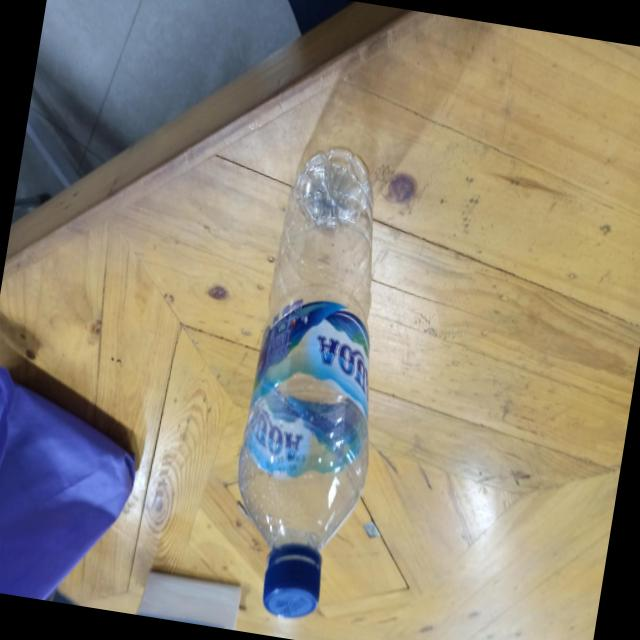BotolPlastik: (215, 140, 418, 629)
